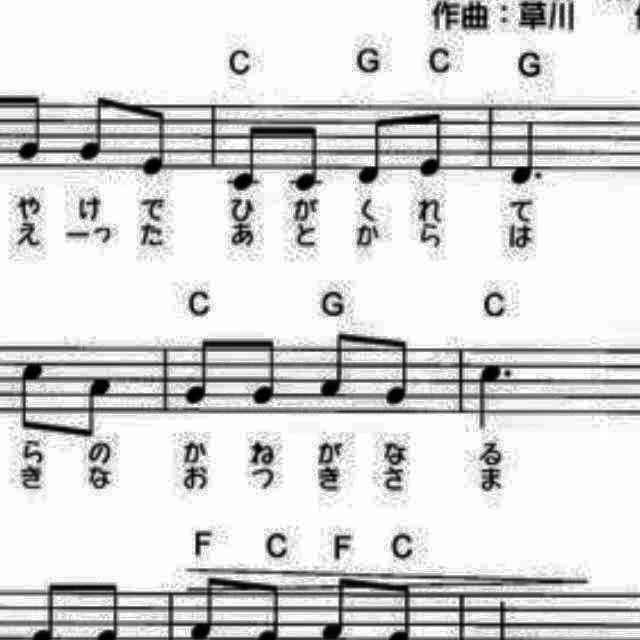Eighth-note: (70, 90, 119, 170), (351, 109, 397, 193), (314, 326, 362, 404), (73, 366, 121, 442), (135, 99, 177, 183), (180, 332, 224, 412), (222, 119, 266, 198), (247, 331, 289, 413), (375, 332, 417, 414), (284, 118, 328, 196), (410, 103, 452, 183), (10, 87, 50, 169), (10, 358, 50, 438)
Quarter-dot: (470, 356, 520, 434), (506, 112, 552, 196)
